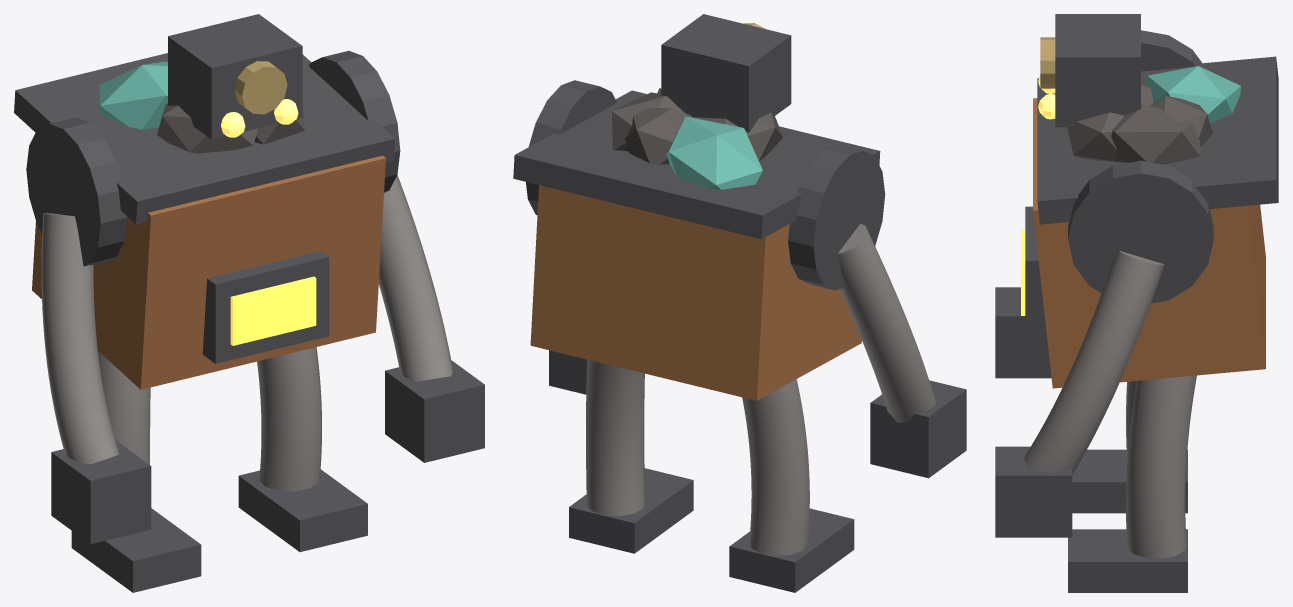
Rendered from cart_golem.glb.
The picture shows the model from 3 angles, left to right: view 1: azimuth 30°, elevation 25°; view 2: azimuth 150°, elevation 25°; view 3: azimuth 270°, elevation 25°; orthographic projection. The views are drawn at different scales.
Parts seen in each view (by area): view 1: cart_golem; view 2: cart_golem; view 3: cart_golem.
Boxes of the visible parts, x1,y1,x2,y2 form: cart_golem: (14, 14, 484, 592); cart_golem: (513, 14, 966, 592); cart_golem: (995, 14, 1278, 592).
Bounding box in the file's own units: 1.04 × 1.29 × 0.6616.
